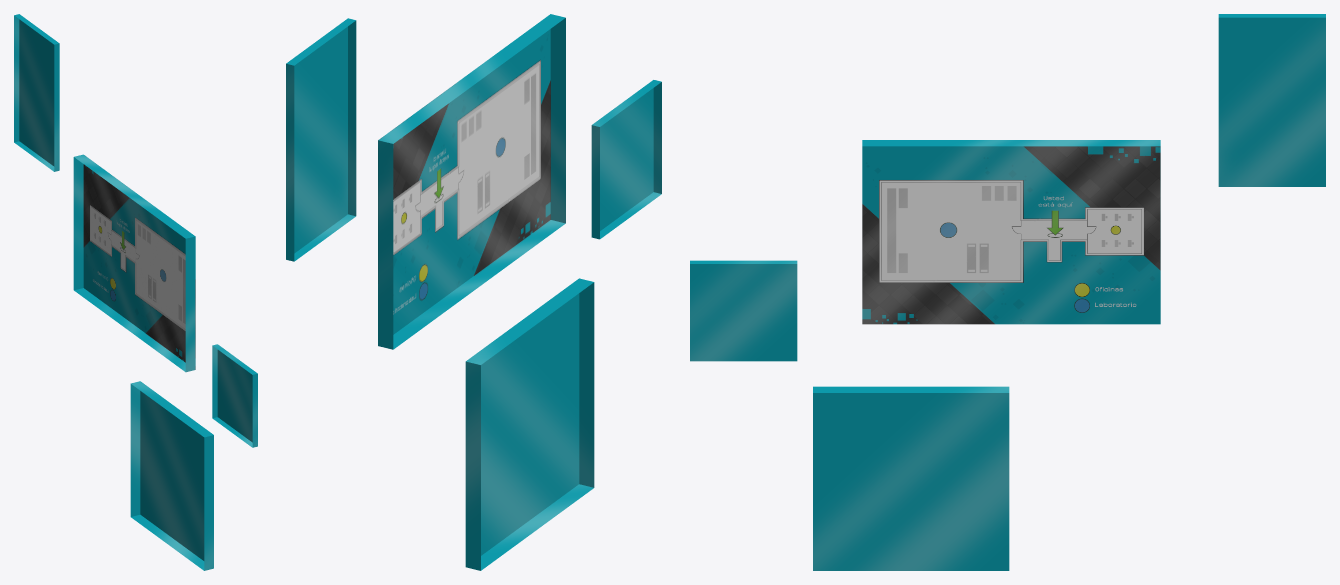
File: CuadrosLobby.fbx
The picture shows the model from 3 angles, left to right: view 1: azimuth 30°, elevation 25°; view 2: azimuth 150°, elevation 25°; view 3: azimuth 270°, elevation 25°; orthographic projection. The views are drawn at different scales.
Visible parts, largest first — view 1: Cube.172; view 2: Cube.172; view 3: Cube.172.
Part boxes in pixels (bbox=[...]): Cube.172: bbox=[14, 14, 257, 570]; Cube.172: bbox=[286, 14, 661, 570]; Cube.172: bbox=[690, 14, 1325, 570].
Bounding box in the file's own units: 2.22 × 89.27 × 93.17.
